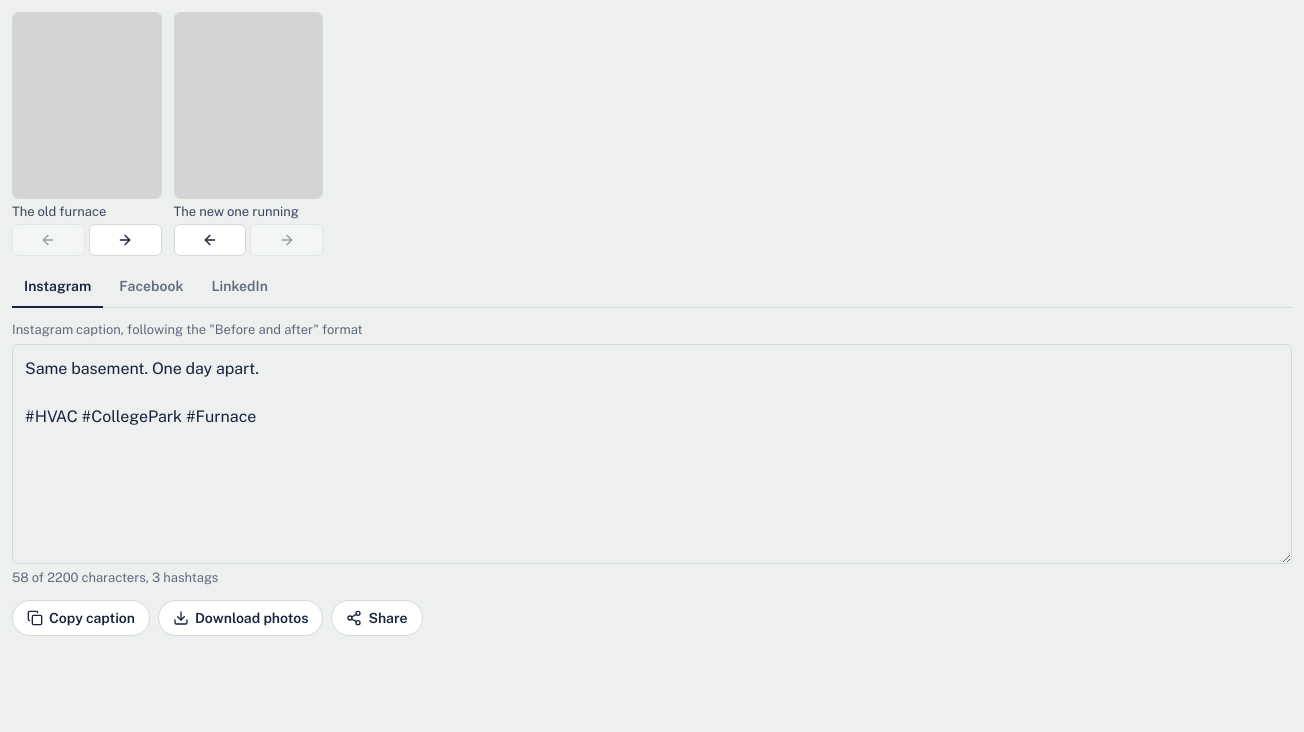
Test: PostPreview › points to Download when sharing fails
Click the button "Share" at (377,618), box [331,600,422,636]
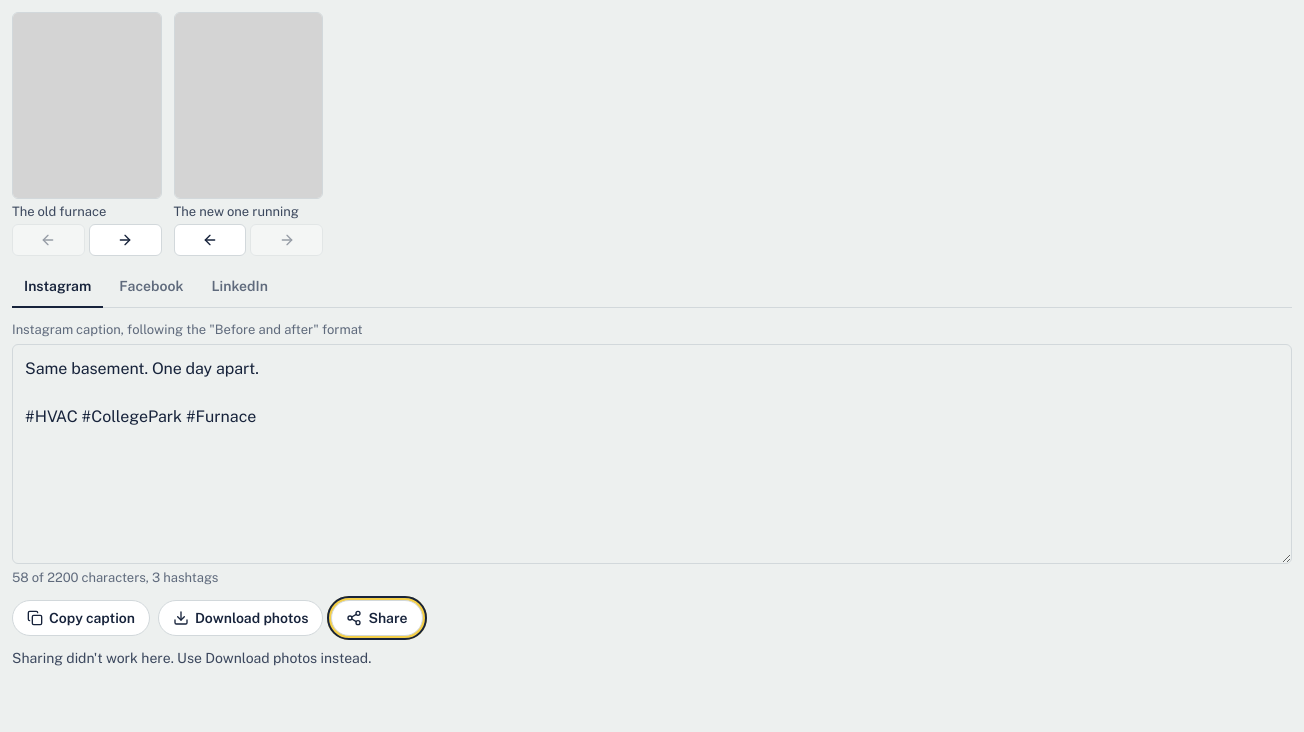
Expected: the button "Download photos" is enabled, [158,600,324,636]
Result: the text "Sharing didn't work here. Use Download photos instead." is shown at [12,650,371,666]
